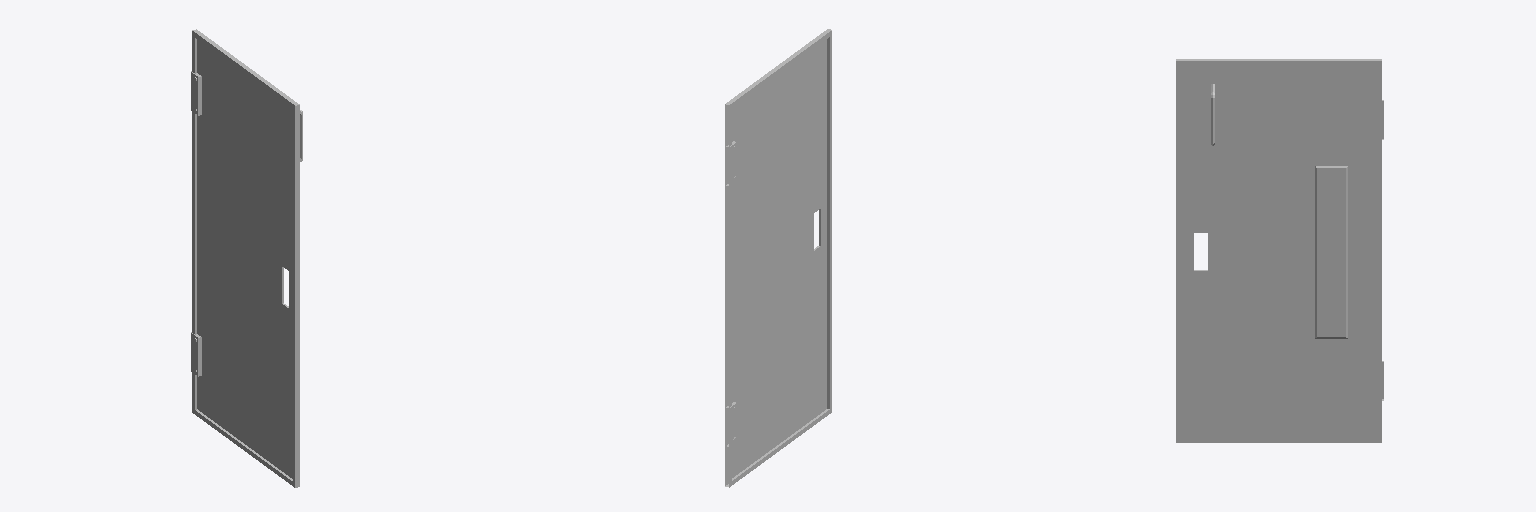
Rendered from metalbox_door.obj.
3 views of the same model, side by side, from view 1: azimuth 30°, elevation 25°; view 2: azimuth 150°, elevation 25°; view 3: azimuth 270°, elevation 25° (orthographic).
Parts seen in each view (by area): view 1: metalbox_door; view 2: metalbox_door; view 3: metalbox_door.
Boxes of the visible parts, x1=… form: metalbox_door: x1=191, y1=29, x2=302, y2=487; metalbox_door: x1=725, y1=29, x2=831, y2=487; metalbox_door: x1=1176, y1=59, x2=1383, y2=442.
Size of the model in its own units: 2.62 by 34.45 by 16.95.